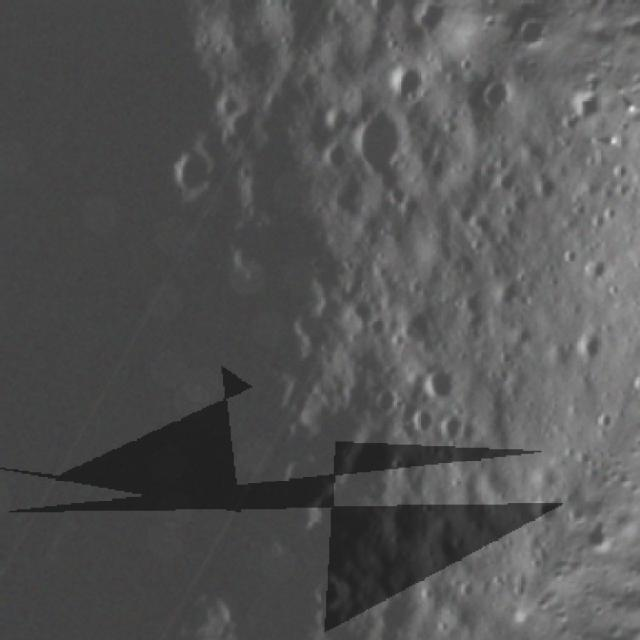crater: (325, 81, 429, 188), (158, 126, 232, 206), (462, 62, 527, 127), (407, 353, 473, 416), (301, 561, 362, 625), (512, 479, 572, 539), (483, 261, 542, 321), (358, 368, 411, 426), (564, 316, 618, 372), (518, 163, 568, 214), (312, 632, 391, 640)
